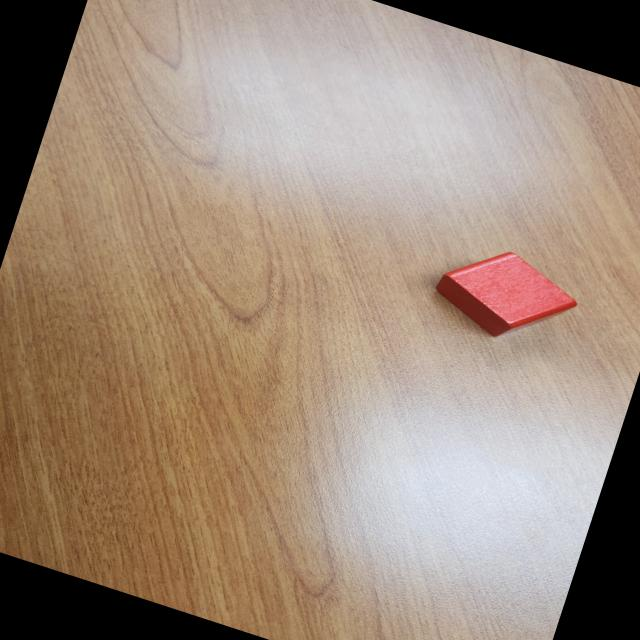red: (427, 233, 590, 359)
